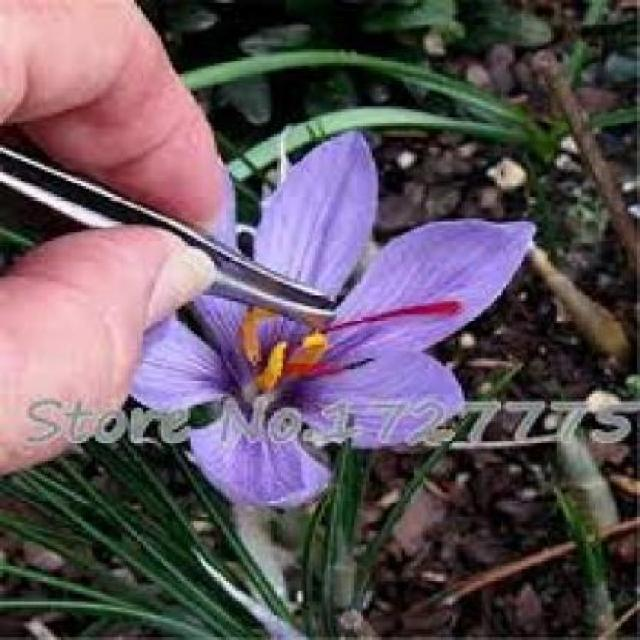saffron open: (131, 137, 531, 511)
